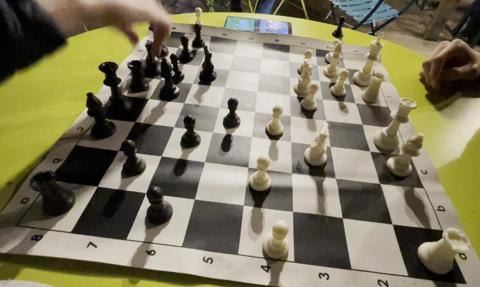xcorner: (91, 180, 103, 192), (112, 144, 124, 156), (129, 115, 141, 127), (285, 134, 297, 146), (284, 87, 296, 99), (317, 91, 329, 103), (164, 55, 176, 67), (188, 193, 200, 204), (237, 199, 249, 210), (286, 205, 298, 216), (336, 211, 347, 223), (155, 150, 167, 161), (242, 160, 253, 172), (330, 171, 341, 183), (246, 129, 257, 141), (364, 144, 376, 155), (178, 96, 190, 107), (213, 100, 225, 111), (249, 104, 260, 116), (320, 113, 332, 124), (357, 117, 368, 129), (154, 72, 166, 83), (219, 79, 230, 91), (252, 83, 263, 95), (350, 95, 362, 106), (224, 62, 235, 74), (284, 69, 295, 81), (314, 73, 326, 84), (345, 76, 356, 88), (172, 41, 184, 52), (200, 44, 212, 55), (228, 47, 239, 59), (256, 50, 267, 62), (340, 60, 351, 72), (140, 187, 151, 198), (386, 218, 397, 229), (199, 155, 210, 166), (286, 166, 297, 177), (374, 177, 385, 188), (168, 120, 179, 131), (207, 125, 218, 136), (325, 139, 336, 150), (143, 92, 154, 103), (285, 109, 296, 120), (187, 76, 198, 87), (194, 59, 205, 70), (254, 66, 265, 77), (284, 54, 295, 65), (312, 57, 323, 68)
